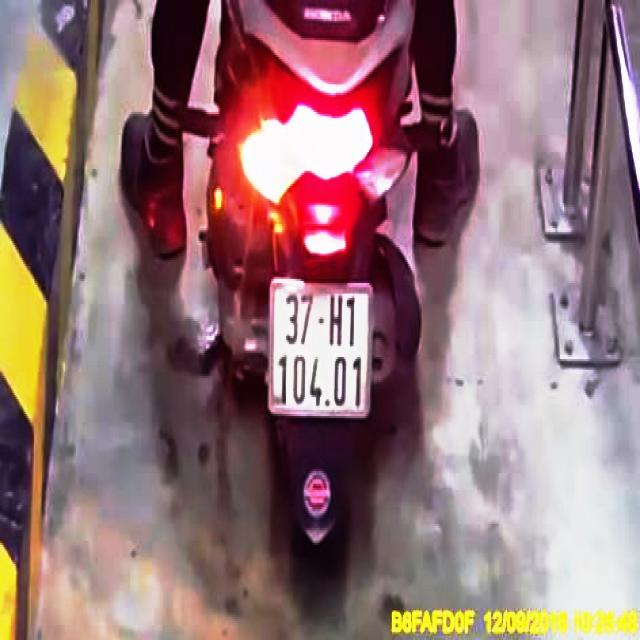license_plate: (268, 282, 373, 416)
